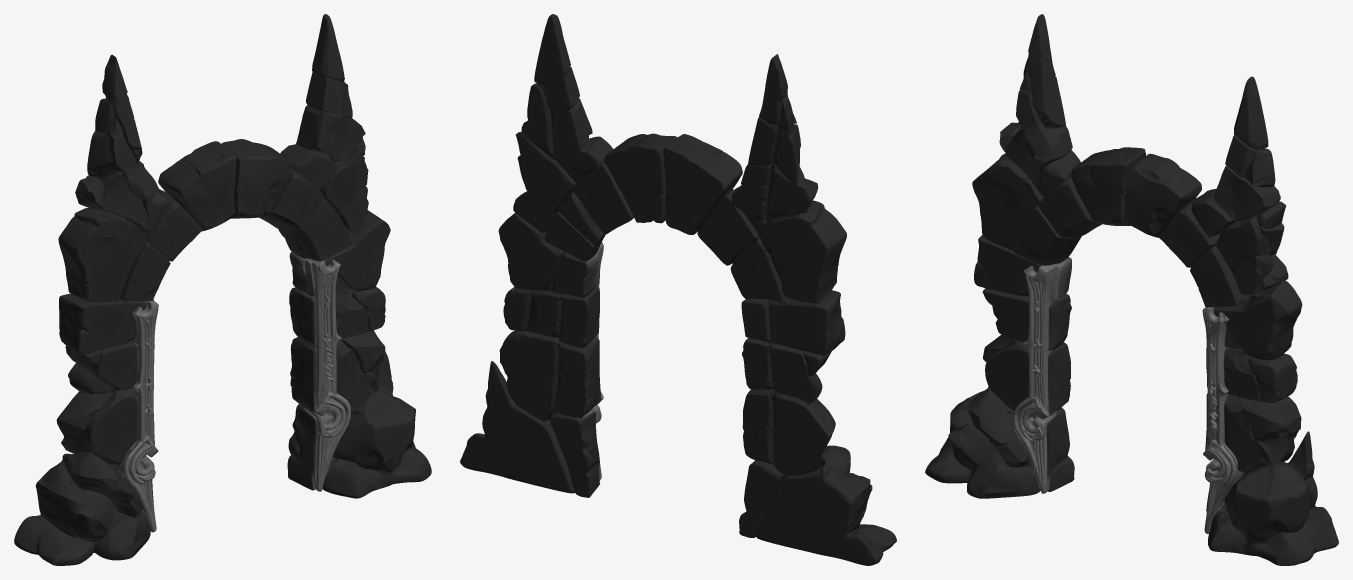
3 renders of one model, left to right at view 1: azimuth 30°, elevation 25°; view 2: azimuth 150°, elevation 25°; view 3: azimuth 330°, elevation 25°, orthographic. The views are drawn at different scales.
Visible parts, largest first — view 1: model; view 2: model; view 3: model.
Part boxes in pixels (x1,y1,x2,y2): model: (14,14,431,565); model: (460,14,896,565); model: (925,14,1338,565).
Bounding box in the file's own units: 1.7 × 1.9 × 0.3111.
Materials: 1 (1 with a texture image).
